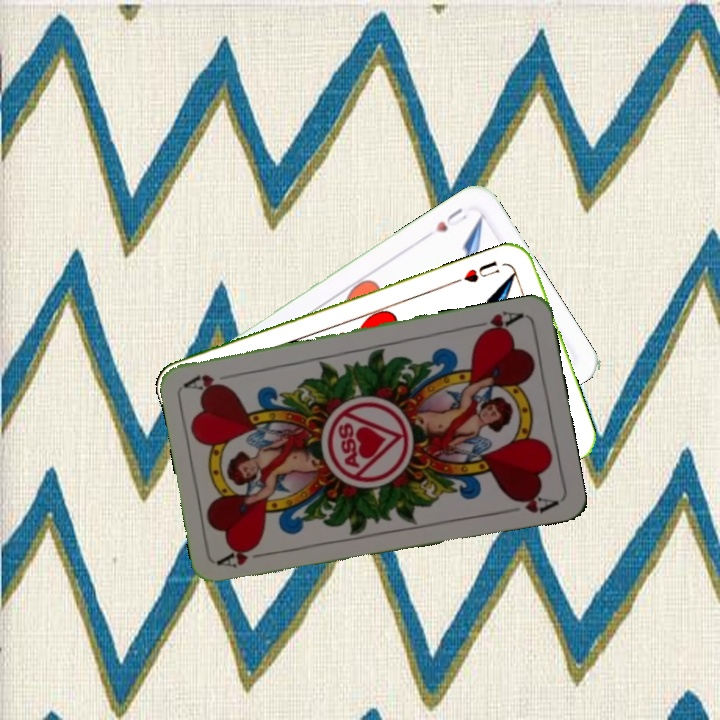HA: (468, 307, 527, 339), (215, 540, 274, 571)
HU: (460, 256, 503, 285), (431, 204, 470, 235)
